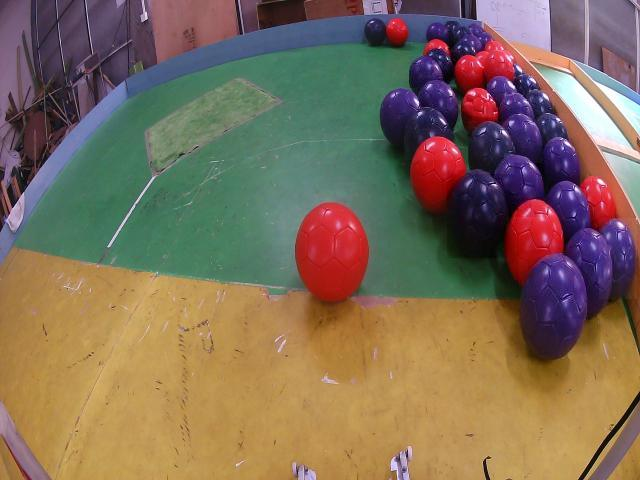jambhalya: (520, 254, 588, 358), (565, 229, 613, 319), (495, 155, 545, 217), (600, 219, 637, 299), (546, 180, 591, 244), (380, 88, 421, 147), (540, 137, 580, 188), (419, 82, 459, 129), (504, 114, 542, 163), (410, 56, 443, 94), (499, 93, 534, 125), (487, 75, 518, 108), (426, 22, 450, 43), (461, 34, 484, 52), (468, 23, 483, 37), (479, 33, 492, 47)
kaalyya: (447, 170, 507, 258), (404, 108, 452, 160), (469, 122, 514, 174), (536, 113, 569, 146), (427, 48, 454, 85), (527, 90, 554, 119), (452, 40, 476, 65), (365, 18, 386, 45), (515, 75, 538, 96), (445, 21, 460, 41), (454, 27, 469, 43), (514, 62, 523, 78)
